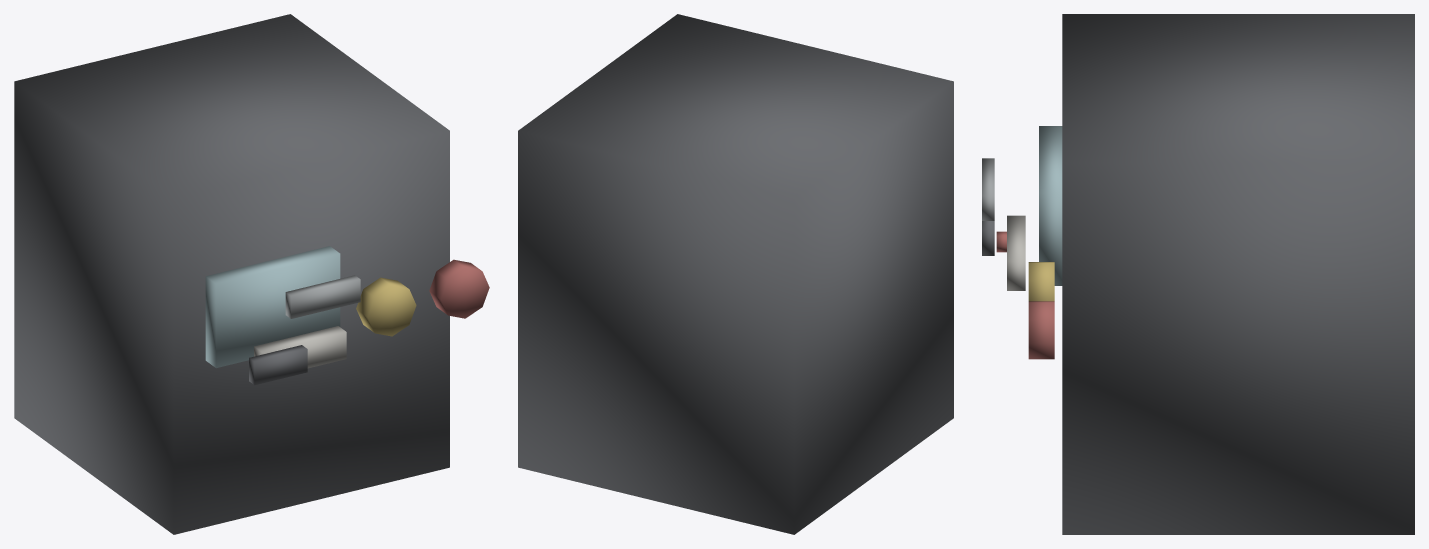
The model's file is multimeter_station__weathered.glb.
3 views of the same model, side by side, from view 1: azimuth 30°, elevation 25°; view 2: azimuth 150°, elevation 25°; view 3: azimuth 270°, elevation 25° (orthographic). The views are drawn at different scales.
Visible parts, largest first — view 1: world; view 2: world; view 3: world.
Part boxes in pixels (x1,y1,x2,y2): world: [14, 14, 489, 534]; world: [518, 14, 953, 534]; world: [982, 14, 1414, 534].
Size of the model in its own units: 0.37 by 0.396 by 0.4175.
